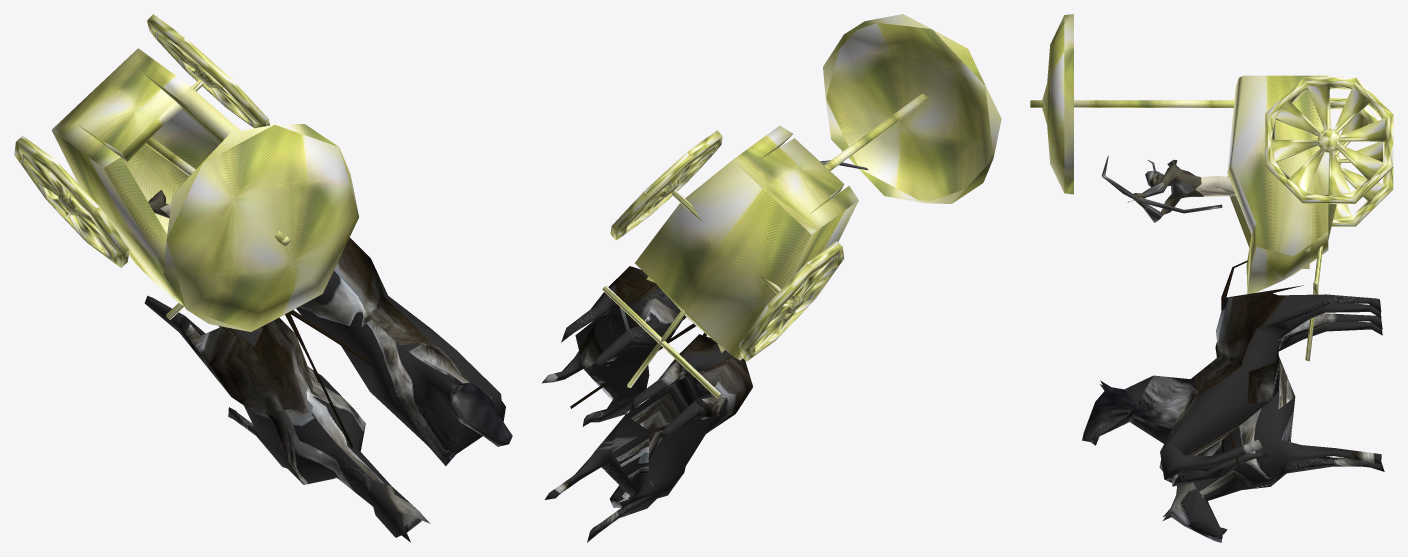
Rendered from chariot_000210.obj.
The picture shows the model from 3 angles, left to right: view 1: azimuth 30°, elevation 25°; view 2: azimuth 150°, elevation 25°; view 3: azimuth 270°, elevation 25°; orthographic projection. The views are drawn at different scales.
Parts seen in each view (by area): view 1: umbrella_Sphere, chariot_Cube.001, Horse.000_objHorse_0.001, Horse.001_objHorse_0.002, wheelR_Cylinder, wheelL_Cylinder.003, Cylinder_Cylinder.001; view 2: chariot_Cube.001, umbrella_Sphere, Horse.000_objHorse_0.001, Horse.001_objHorse_0.002, wheelR_Cylinder, wheelL_Cylinder.003, rod_Cylinder.002; view 3: Horse.001_objHorse_0.002, chariot_Cube.001, Horse.000_objHorse_0.001, wheelL_Cylinder.003, umbrella_Sphere, A4_Circle, wheelR_Cylinder, rod_Cylinder.002.
Part boxes in pixels (left/top/right/bottom): umbrella_Sphere: left=145, top=124, right=358, bottom=331; chariot_Cube.001: left=51, top=48, right=240, bottom=305; Horse.000_objHorse_0.001: left=144, top=295, right=430, bottom=542; Horse.001_objHorse_0.002: left=296, top=237, right=512, bottom=465; wheelR_Cylinder: left=14, top=135, right=129, bottom=267; wheelL_Cylinder.003: left=147, top=14, right=269, bottom=128; Cylinder_Cylinder.001: left=285, top=310, right=371, bottom=447; chariot_Cube.001: left=635, top=125, right=858, bottom=360; umbrella_Sphere: left=823, top=14, right=1001, bottom=203; Horse.000_objHorse_0.001: left=545, top=334, right=752, bottom=542; Horse.001_objHorse_0.002: left=542, top=266, right=686, bottom=426; wheelR_Cylinder: left=739, top=241, right=844, bottom=361; wheelL_Cylinder.003: left=610, top=130, right=722, bottom=240; rod_Cylinder.002: left=602, top=189, right=781, bottom=397; Horse.001_objHorse_0.002: left=1082, top=285, right=1381, bottom=486; chariot_Cube.001: left=1227, top=75, right=1336, bottom=293; Horse.000_objHorse_0.001: left=1163, top=313, right=1384, bottom=542; wheelL_Cylinder.003: left=1265, top=77, right=1393, bottom=203; umbrella_Sphere: left=1030, top=14, right=1234, bottom=194; A4_Circle: left=1101, top=156, right=1236, bottom=222; wheelR_Cylinder: left=1329, top=98, right=1393, bottom=226; rod_Cylinder.002: left=1305, top=245, right=1323, bottom=361.
Size of the model in its own units: 6.63 by 8.25 by 6.33.
